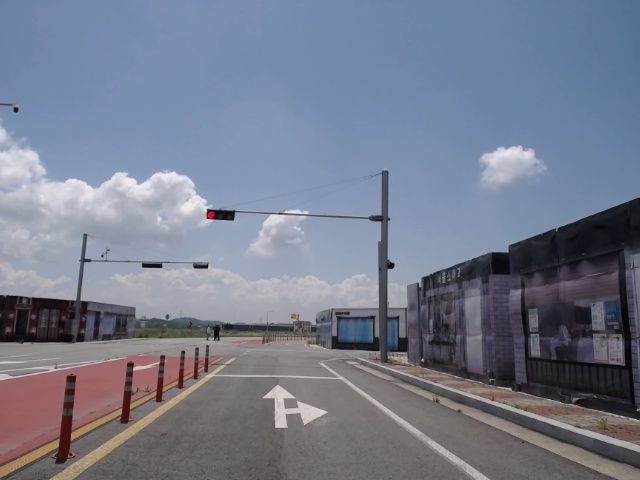red_3: (206, 208, 234, 221)
